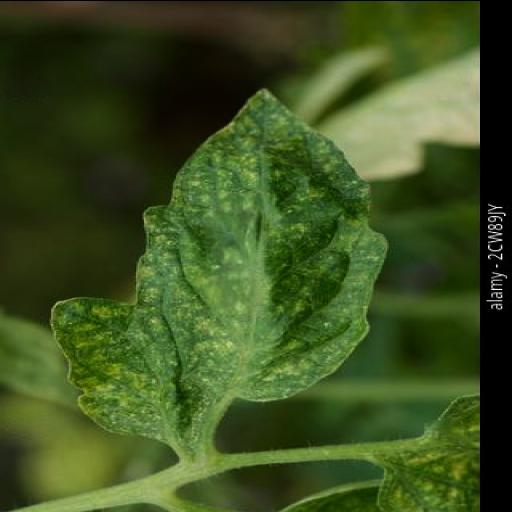Spider Mites: (45, 87, 393, 436)
